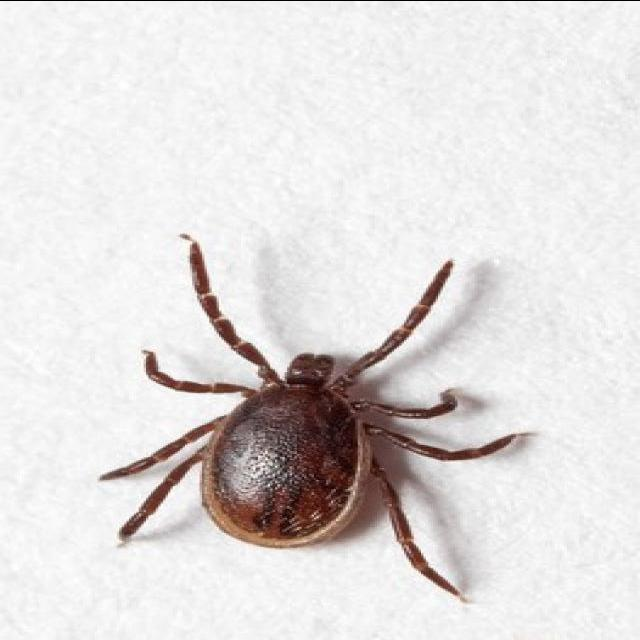Ixodes Ricinus-M: (102, 233, 528, 600)
